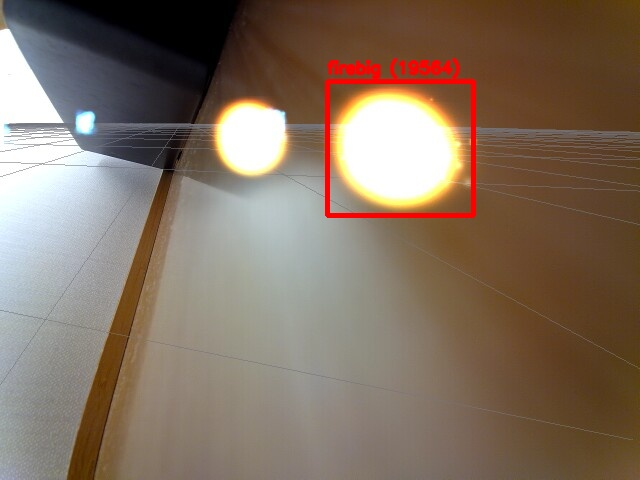firebig: (327, 81, 473, 215)
